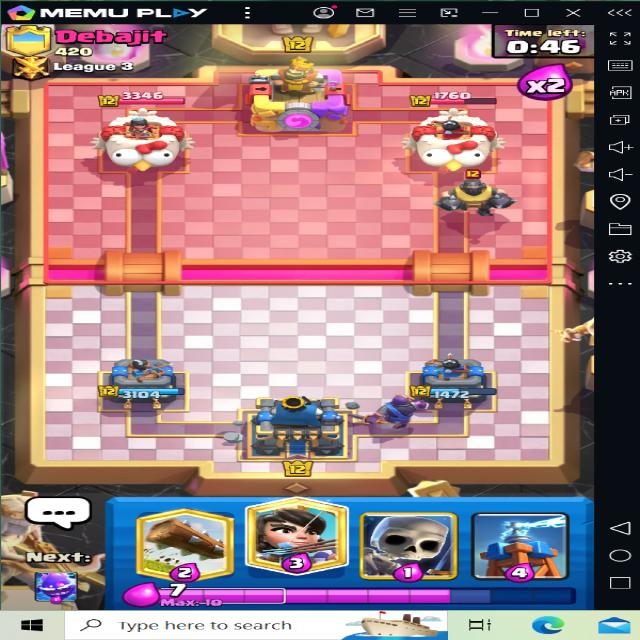mega-knight: (439, 166, 516, 219)
